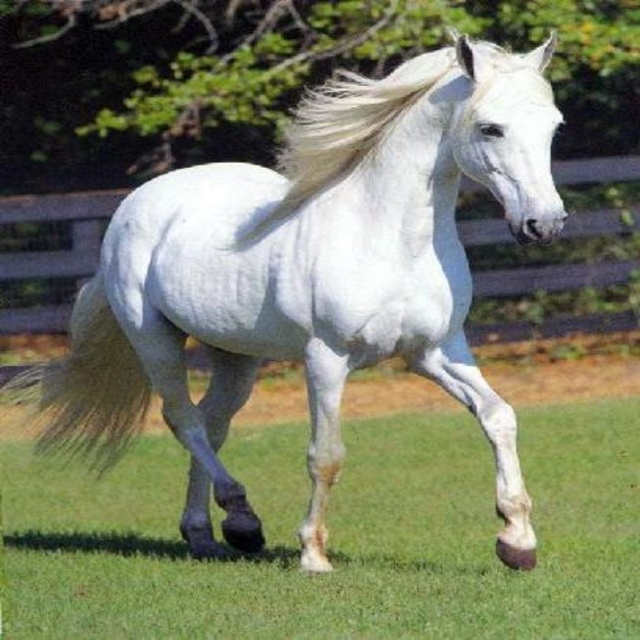Horse: (0, 24, 571, 572)
